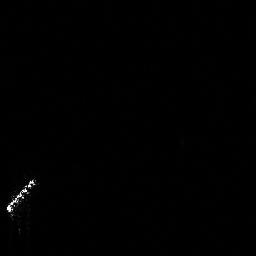ship: (2, 174, 41, 220)
